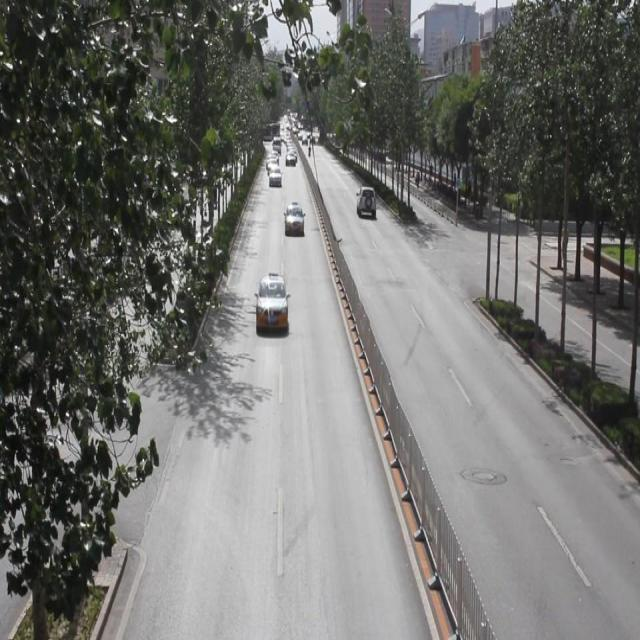car: (257, 272, 288, 335), (283, 202, 304, 239), (356, 185, 374, 218)
